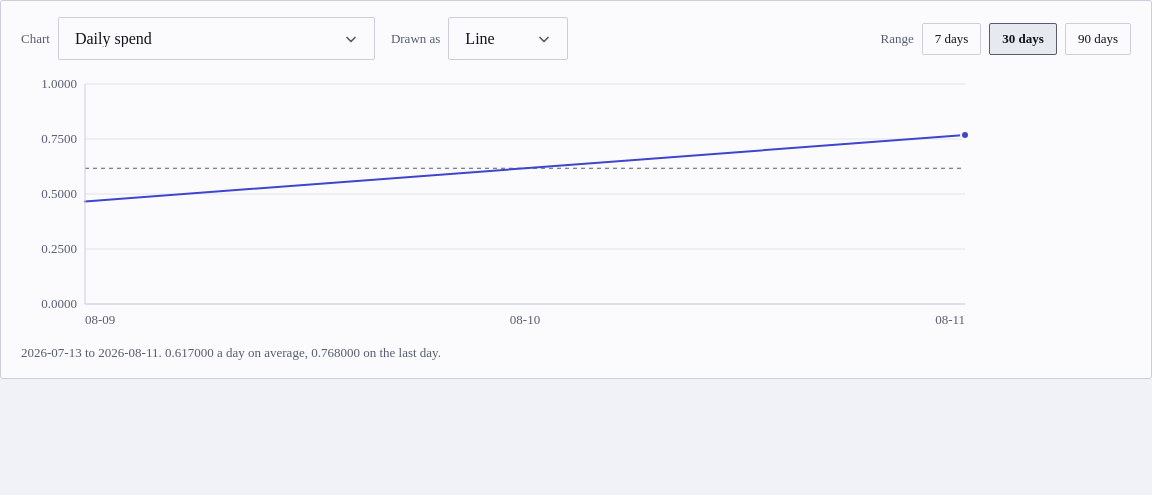
Test: admin cost charts (W11) › the hours view hides its drawing from assistive tech and captions the figure
The image size is (1152, 495).
Select "Spend by day and hour" in the dropdown with test id "admin-cost-view" at [216, 38], box x1=58 y1=17 x2=375 y2=60
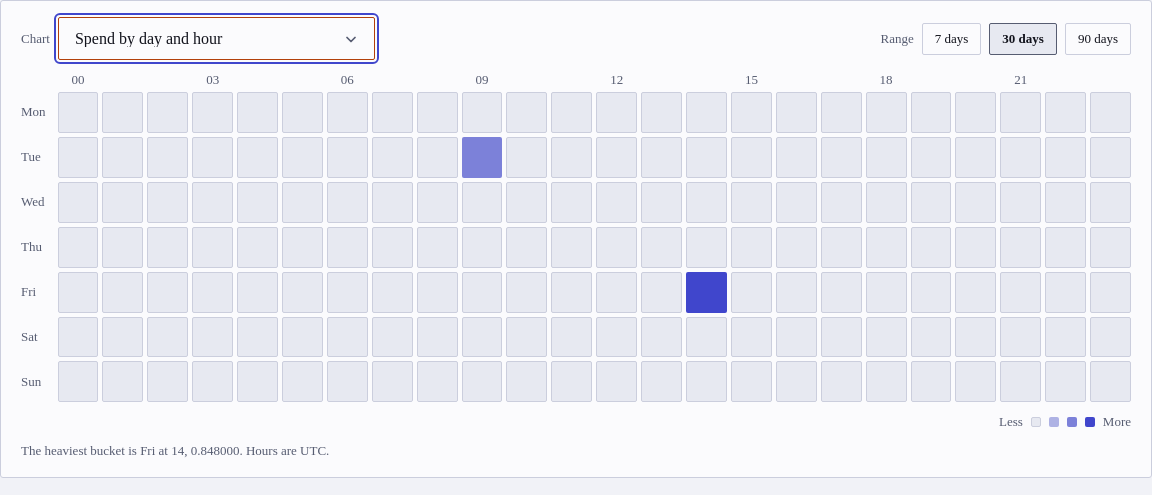
Now the icon with test id "heat-0-0" is shown, box x1=58 y1=92 x2=98 y2=133
